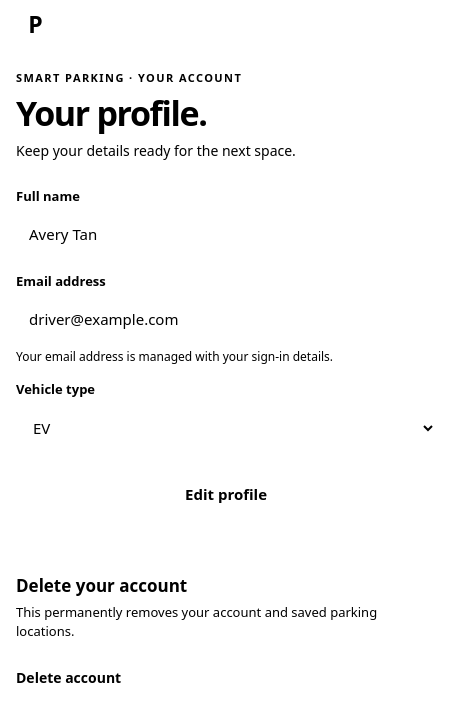
Test: ProfilePage › saves trimmed name and vehicle type and then shows the updated profile
The width and height of the screenshot is (453, 709).
Expected: the field showing "Avery Tan" is shown, [16,212,436,258]
Step 1. Click the button "Edit profile" → (226,495), box [16,471,436,519]
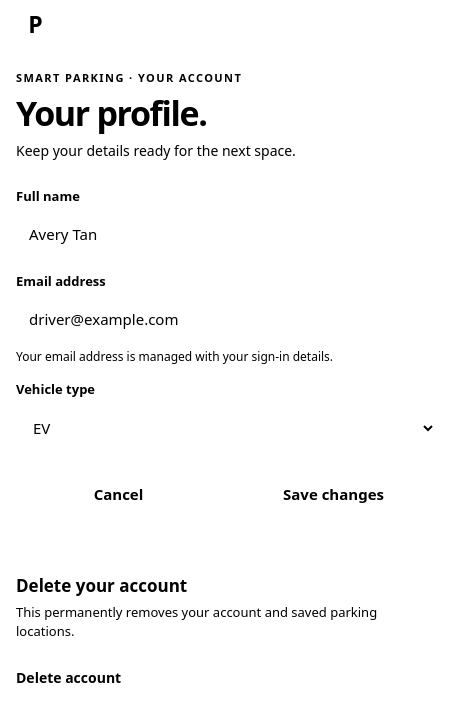
Step 2. Replace the text in the field labelled "Full name" with "  Avery Lee  " → (226,235), box [16,212,436,258]
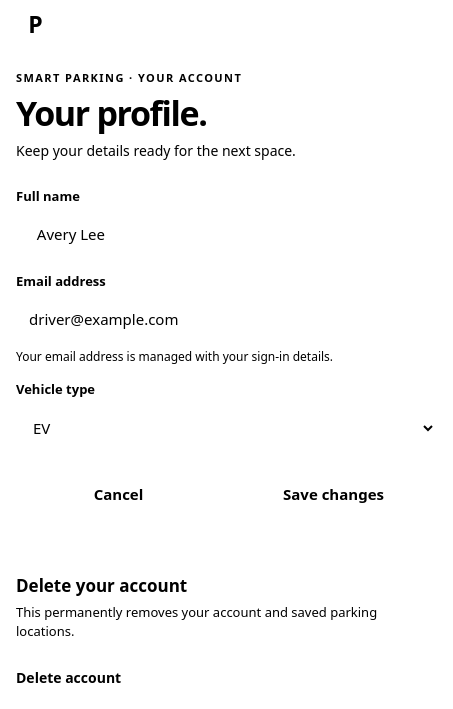
Step 3. Select "Hybrid" in the dropdown labelled "Vehicle type" → (226,428), box [16,405,436,451]
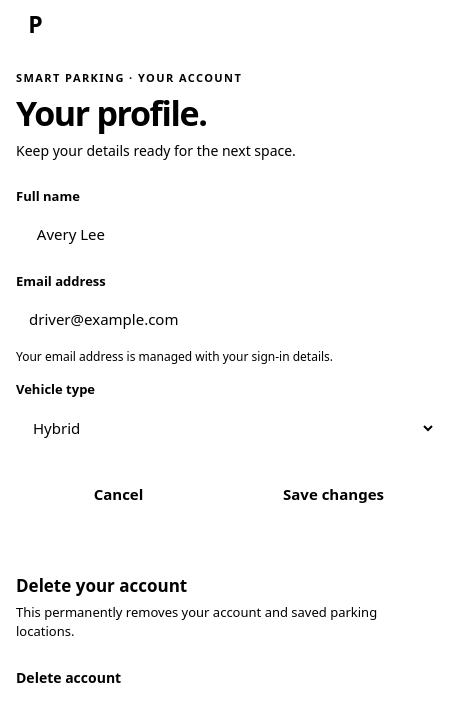
Step 4. Click the button "Save changes" → (334,495), box [231,471,436,519]
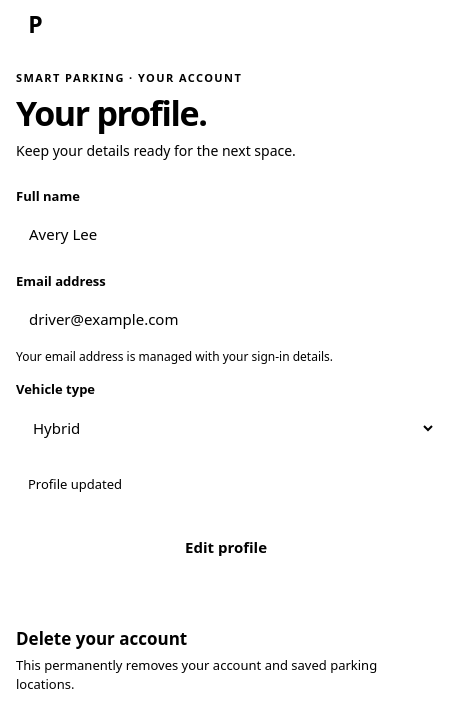
Expected: the message reads "Profile updated", [28,475,122,493]
Step 5. Click the button "Edit profile" → (226,548), box [16,524,436,572]
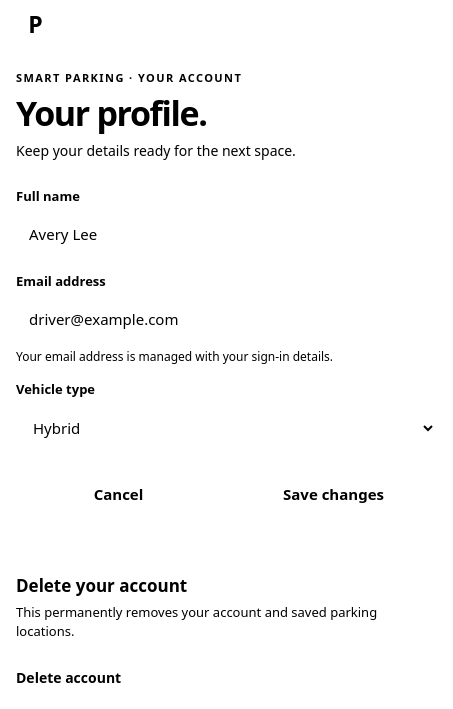
Expected: the message "Profile updated" is gone
